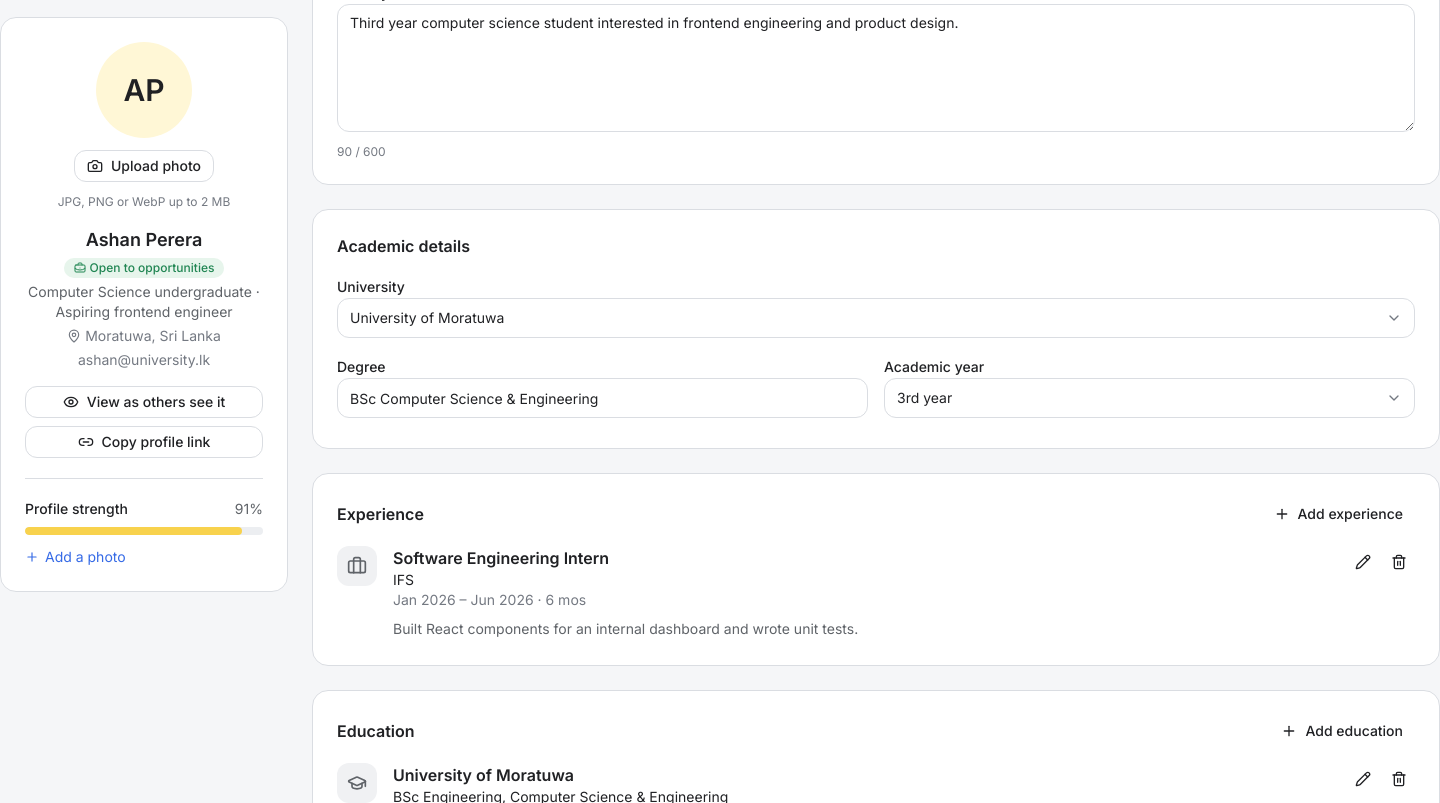
it: StudentProfileForm › tells the user when saving fails
(page scrolled)
Replace the text in the field labelled "Degree" with "BSc IT": point(602, 398) [337, 378, 868, 418]
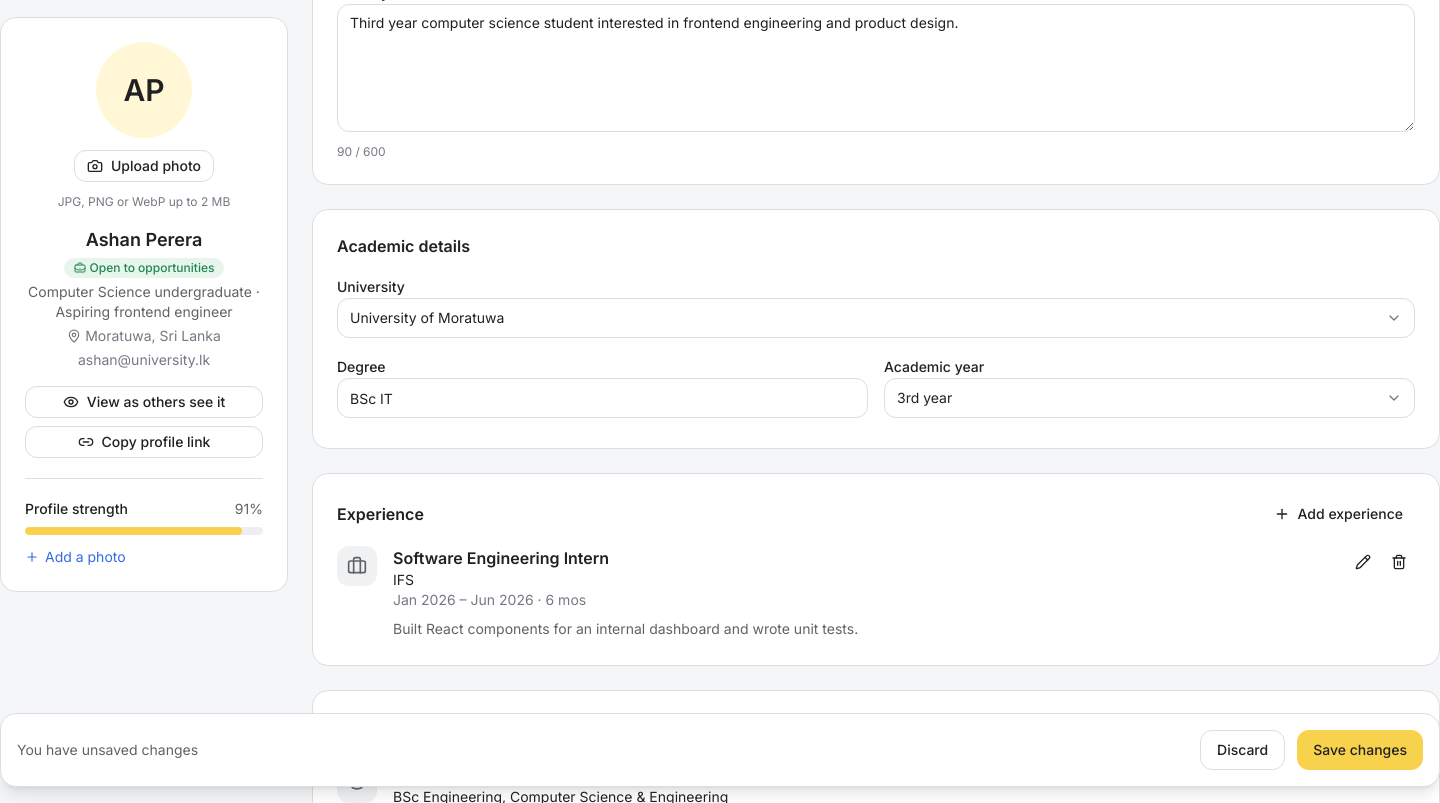
Click the button "Save changes": point(1360, 750) [1297, 730, 1423, 770]
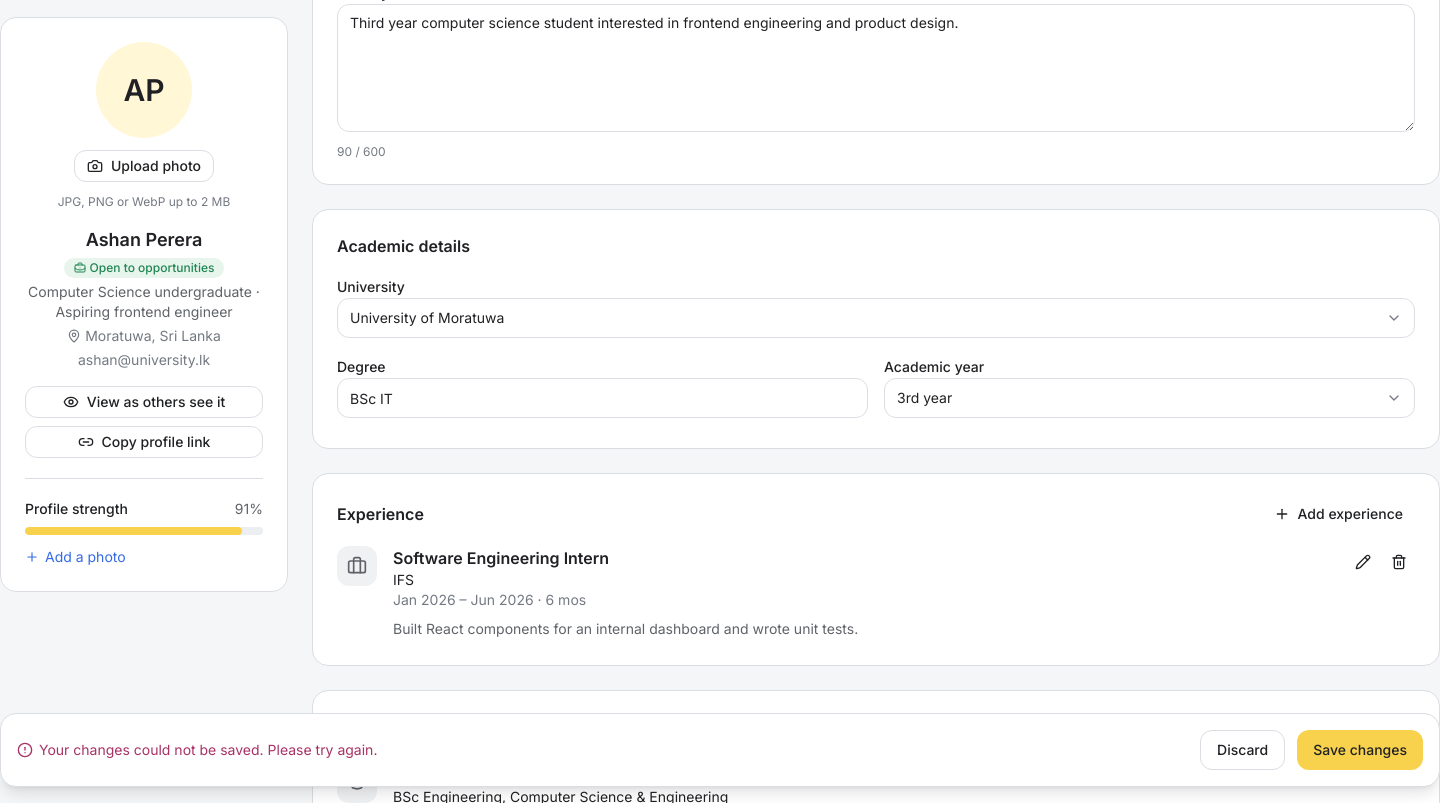
Expected: the text "Your changes could not be saved. Please try again." is shown, [17, 740, 377, 760]
